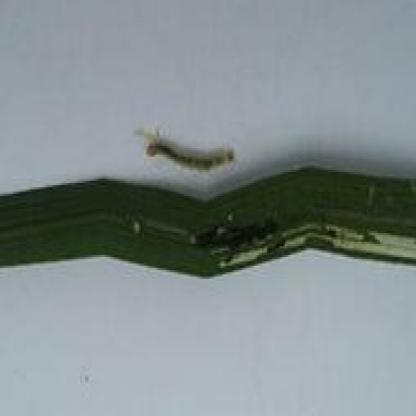leaf-folder: (126, 116, 250, 180)
